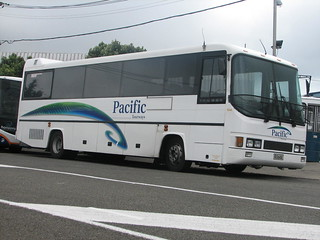bus: (15, 44, 306, 174)
